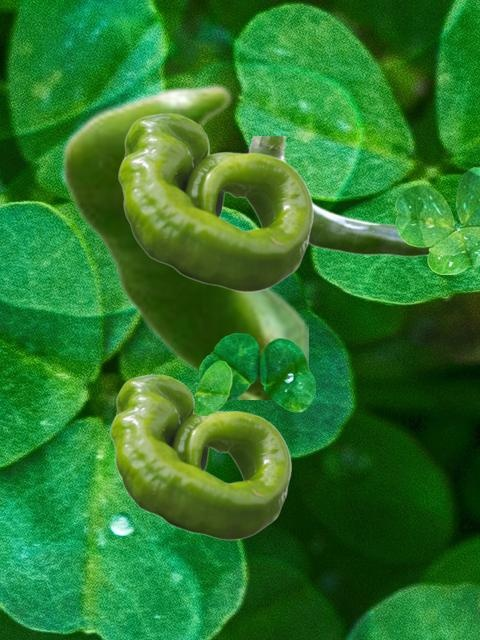green_chili: (60, 83, 307, 398), (118, 113, 312, 291), (110, 374, 290, 539), (248, 136, 429, 256)
